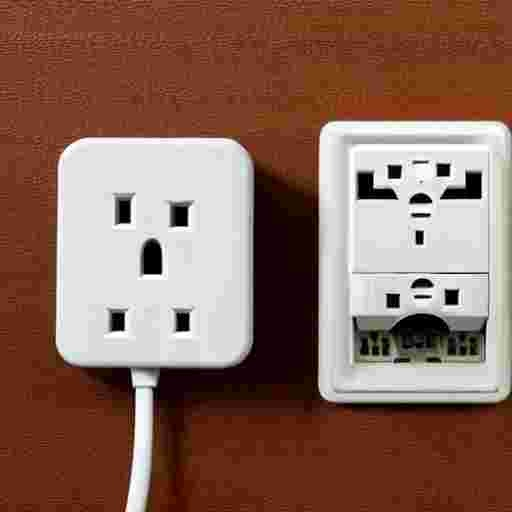power outlet: (318, 122, 511, 402), (56, 138, 253, 367)
